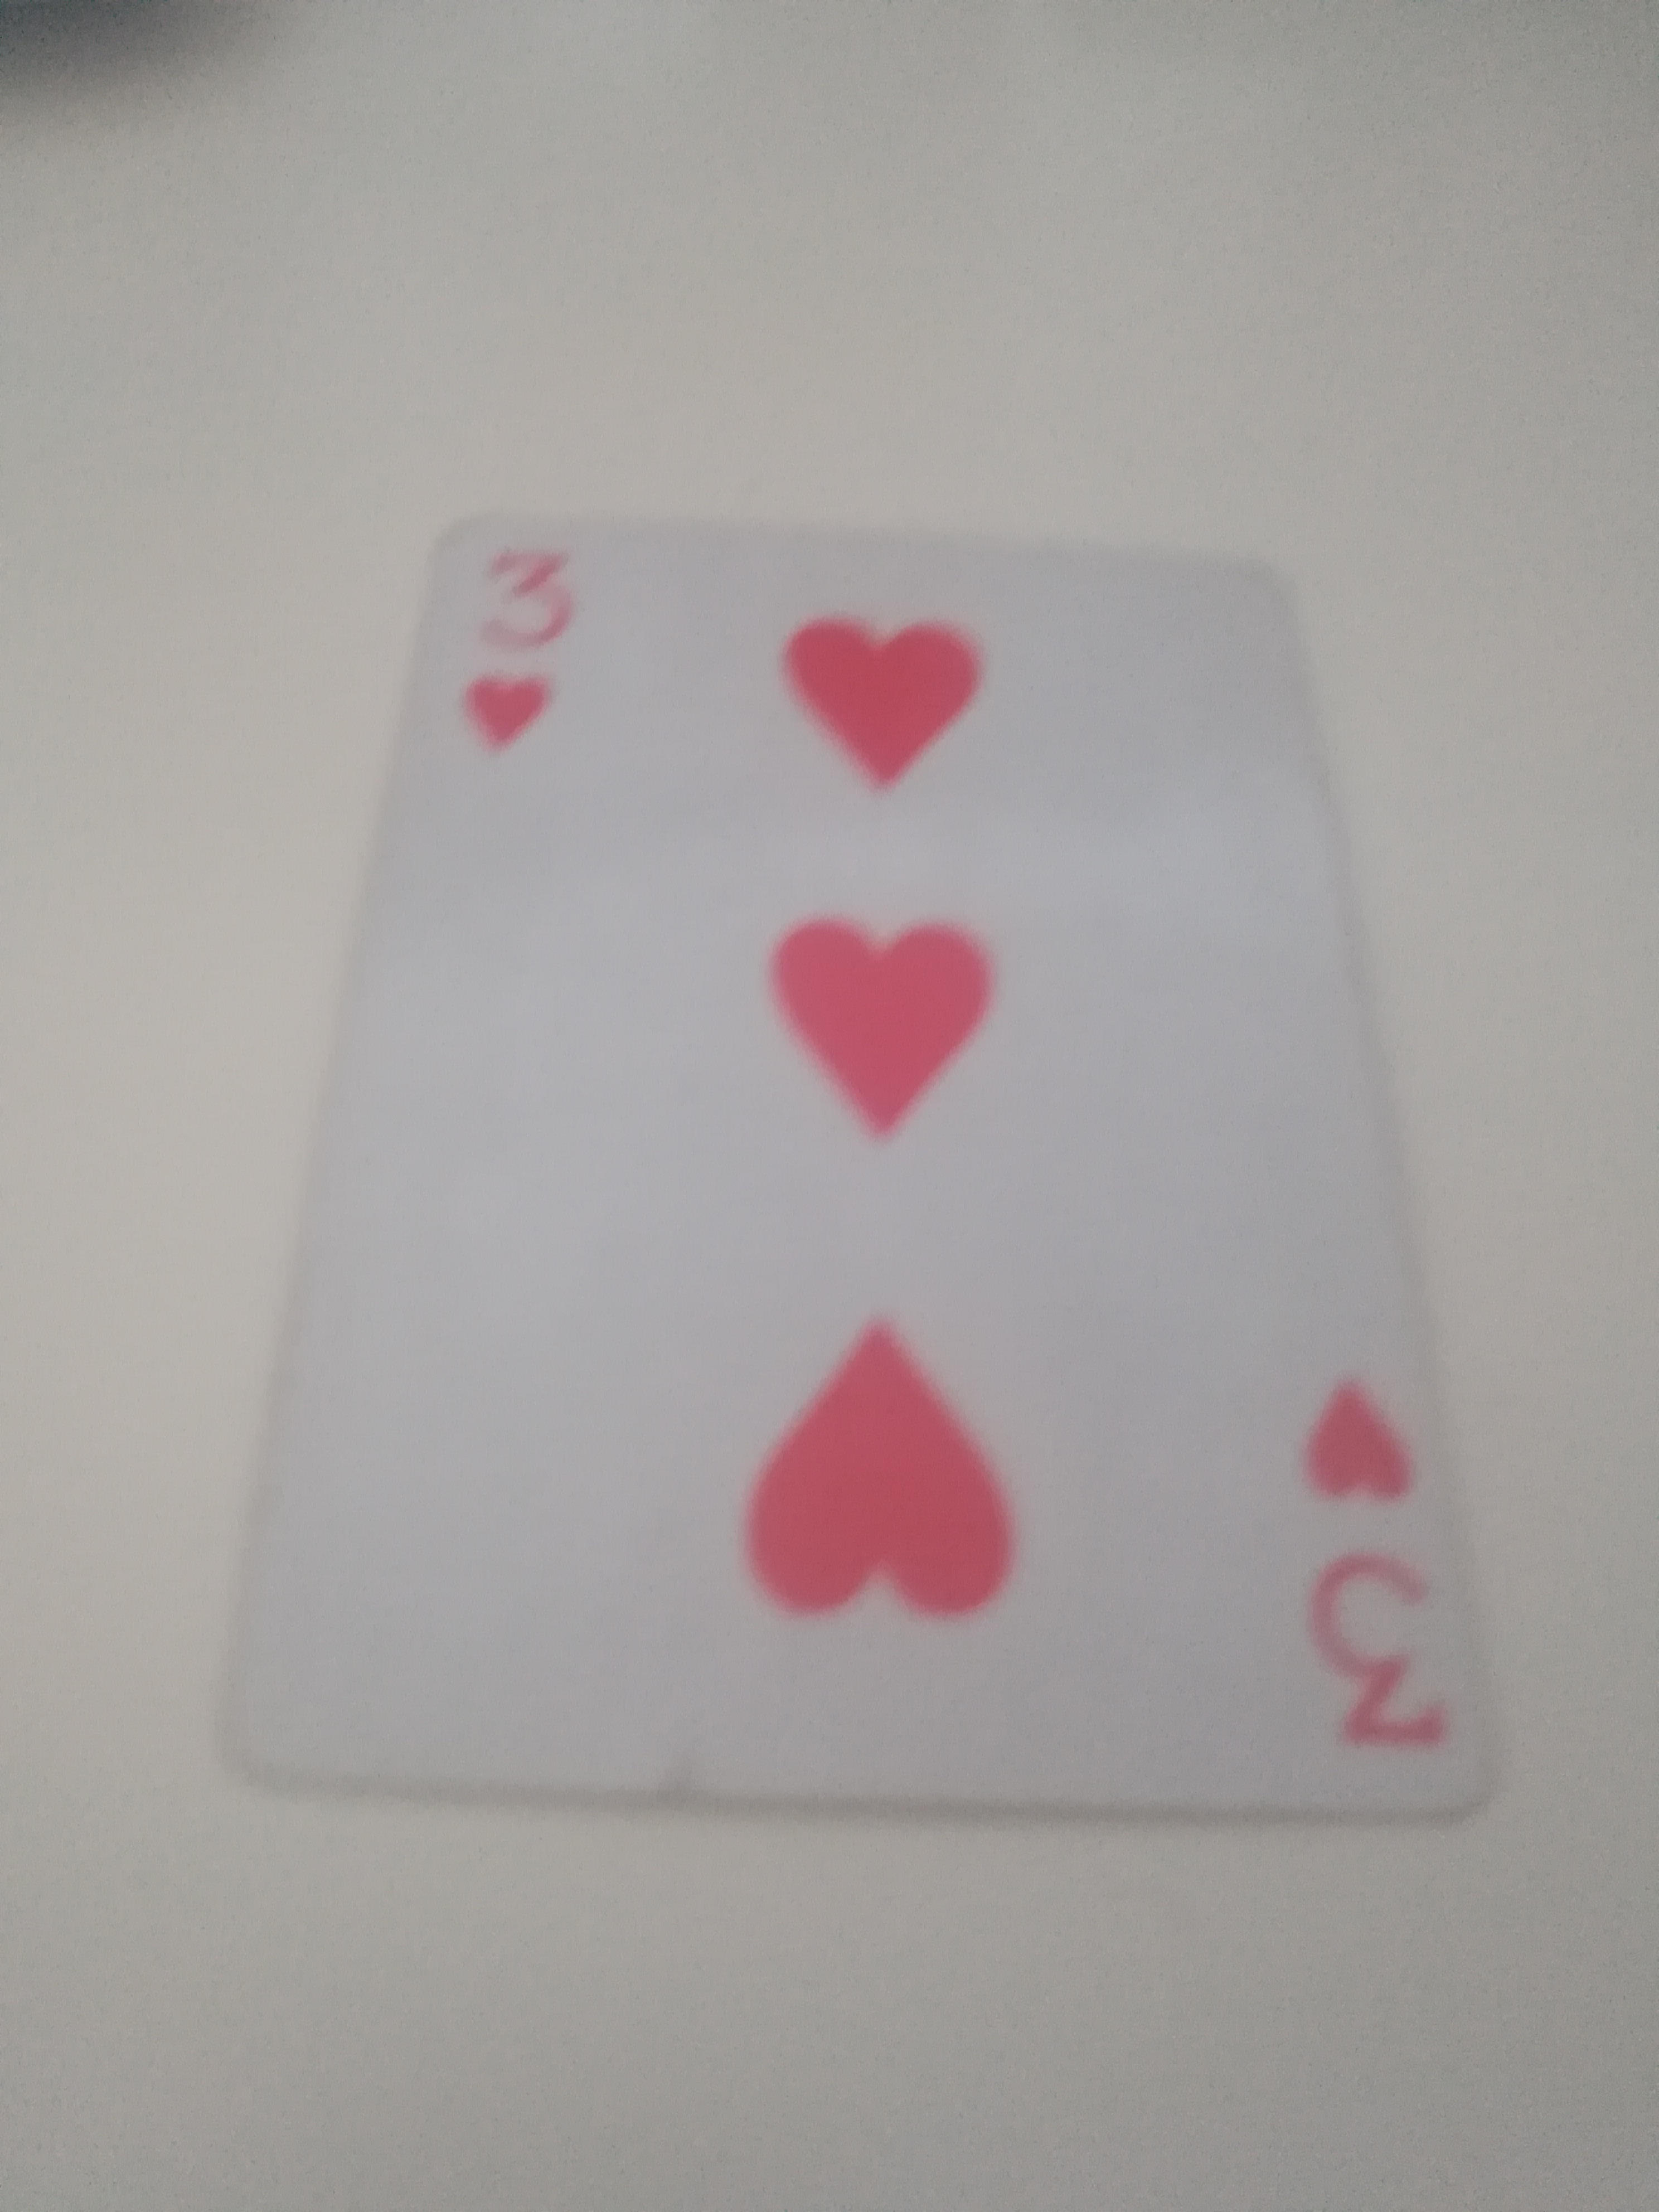3H: (211, 496, 1527, 1838)
